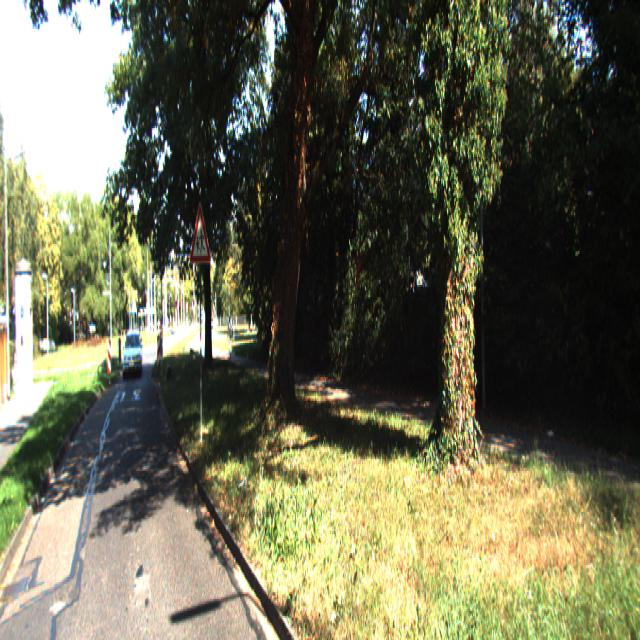Car: (122, 330, 140, 380)
